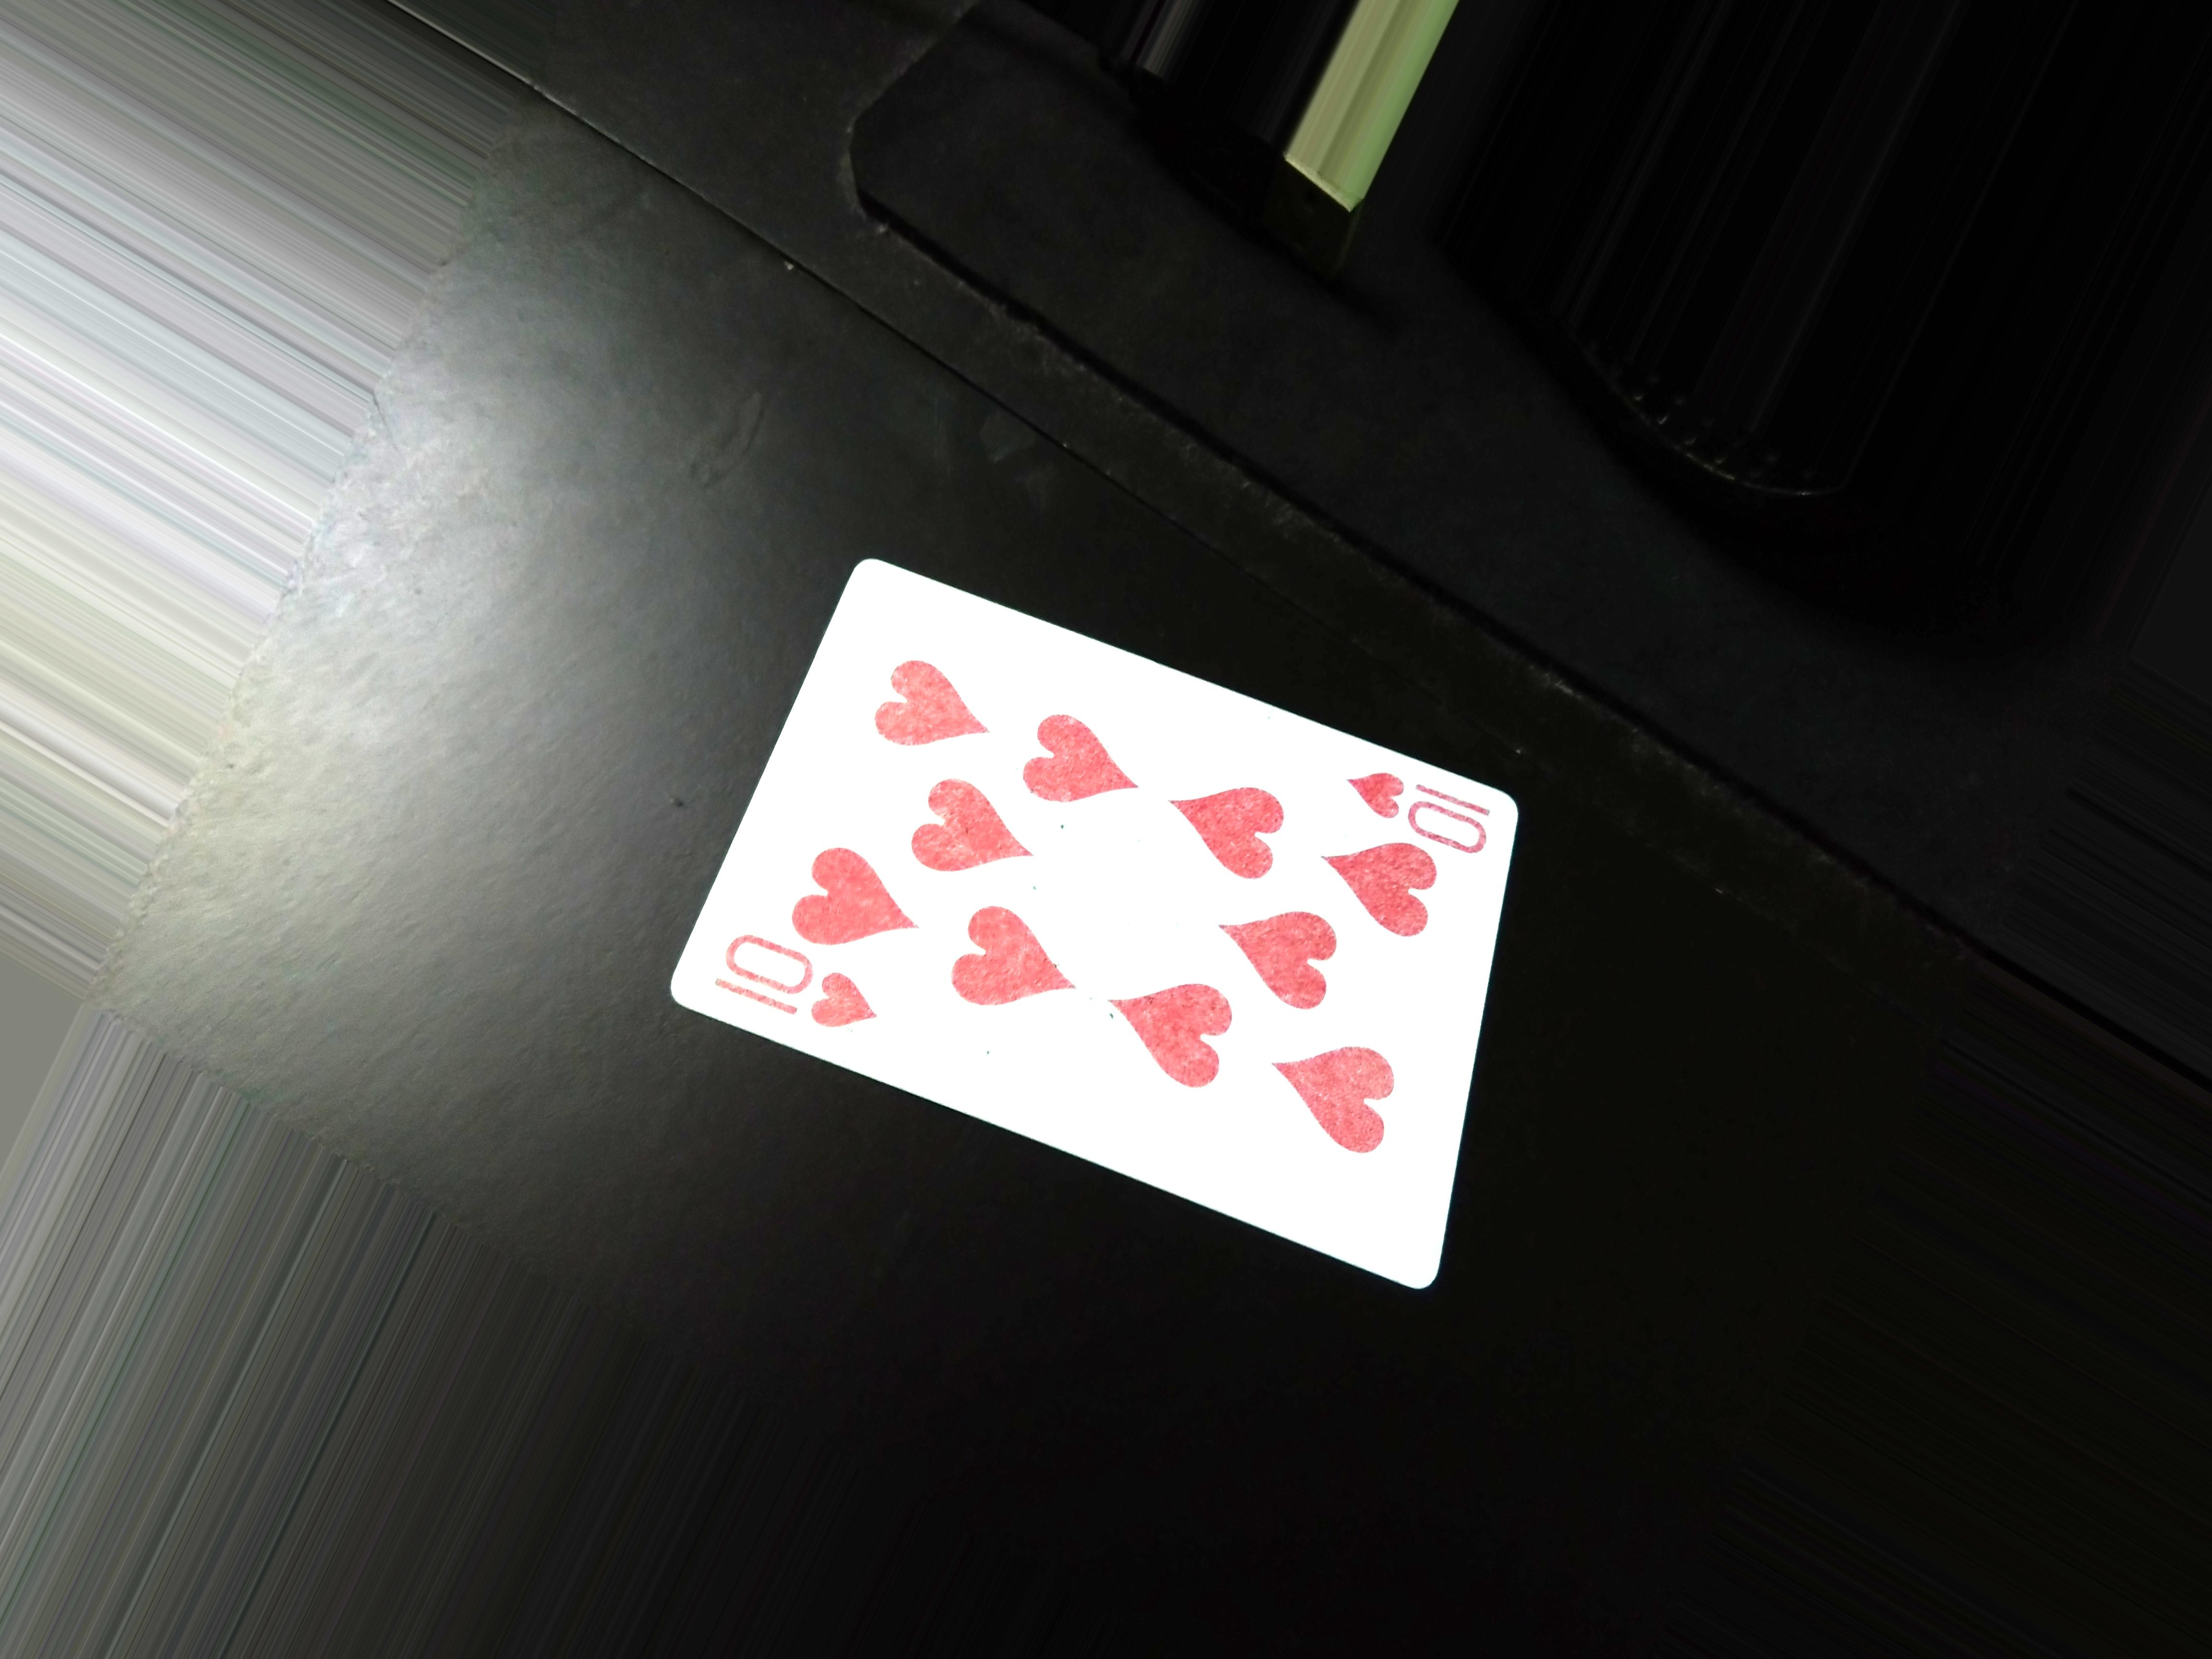10H: (702, 918, 900, 1026)
